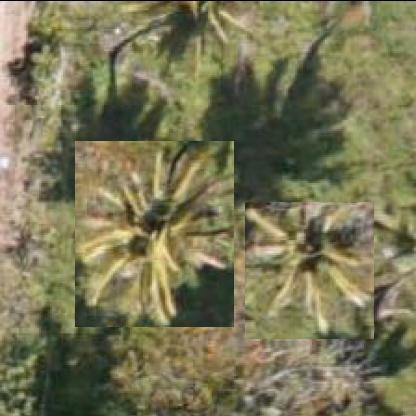coconut tree: (74, 140, 234, 327), (244, 201, 374, 339)
